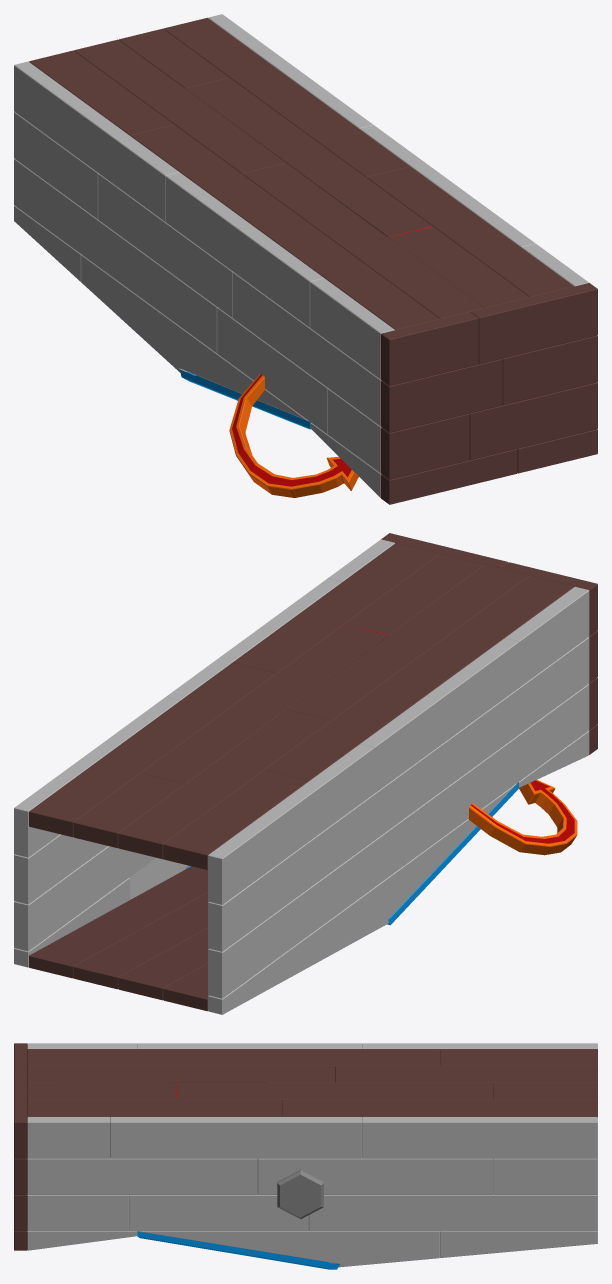
Rendered from SlotMachineBeach.glb.
3 views of the same model, one above another, from view 1: azimuth 30°, elevation 25°; view 2: azimuth 150°, elevation 25°; view 3: azimuth 270°, elevation 25° (orthographic). The views are drawn at different scales.
Parts seen in each view (by area): view 1: SlotMachineBeach; view 2: SlotMachineBeach; view 3: SlotMachineBeach.
Part boxes in pixels (x1=…): SlotMachineBeach: x1=14, y1=14, x2=597, y2=504; SlotMachineBeach: x1=14, y1=533, x2=597, y2=1014; SlotMachineBeach: x1=14, y1=1043, x2=597, y2=1269.
Bounding box in the file's own units: 0.9032 × 0.6308 × 2.18.
Materials: 2 (2 with a texture image).
